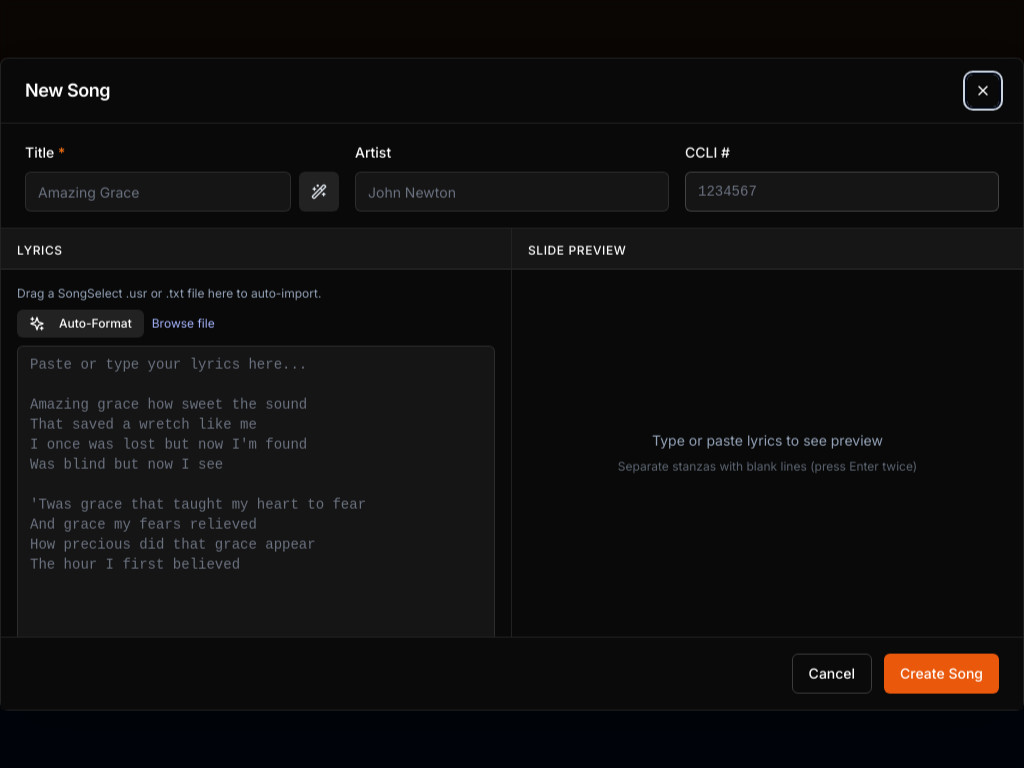
SongEditorModal › Draft Functionality › should show "Draft auto-saved" indicator when form is dirty
The image size is (1024, 768).
Type "T" into the field labelled "Title *" at (158, 192), box top-left (25, 172), bottom-right (291, 212)
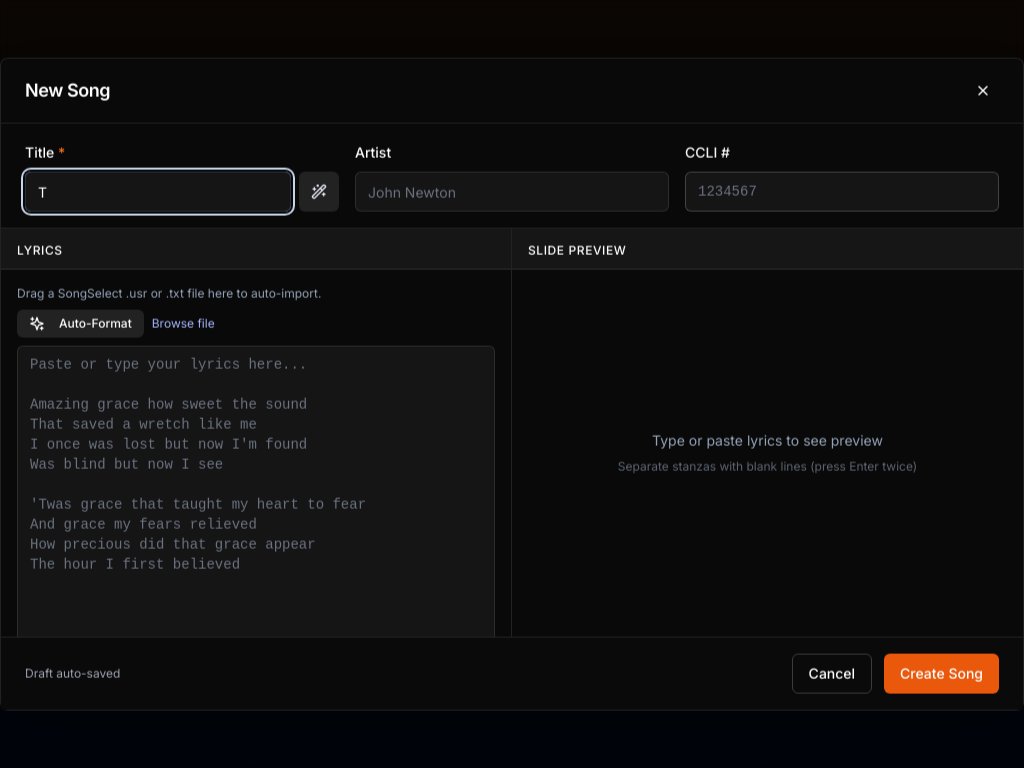
Expected: the text "Draft auto-saved" is shown, top-left (25, 665), bottom-right (120, 681)
